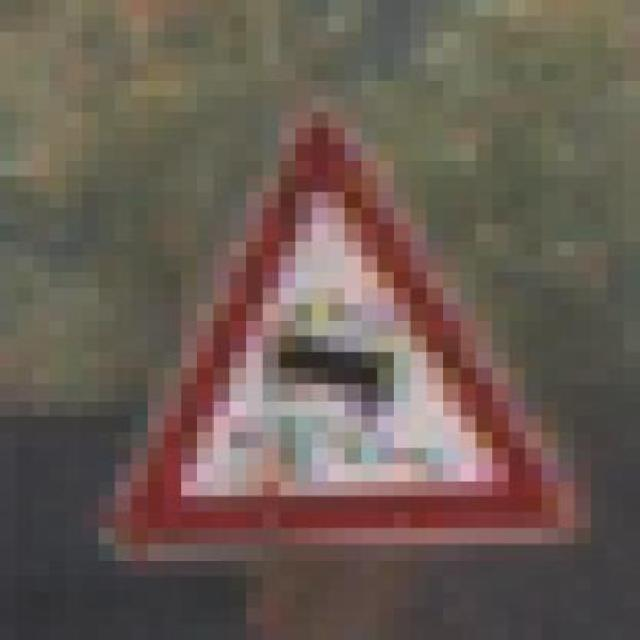Slippery Road Ahead: (95, 89, 587, 586)
